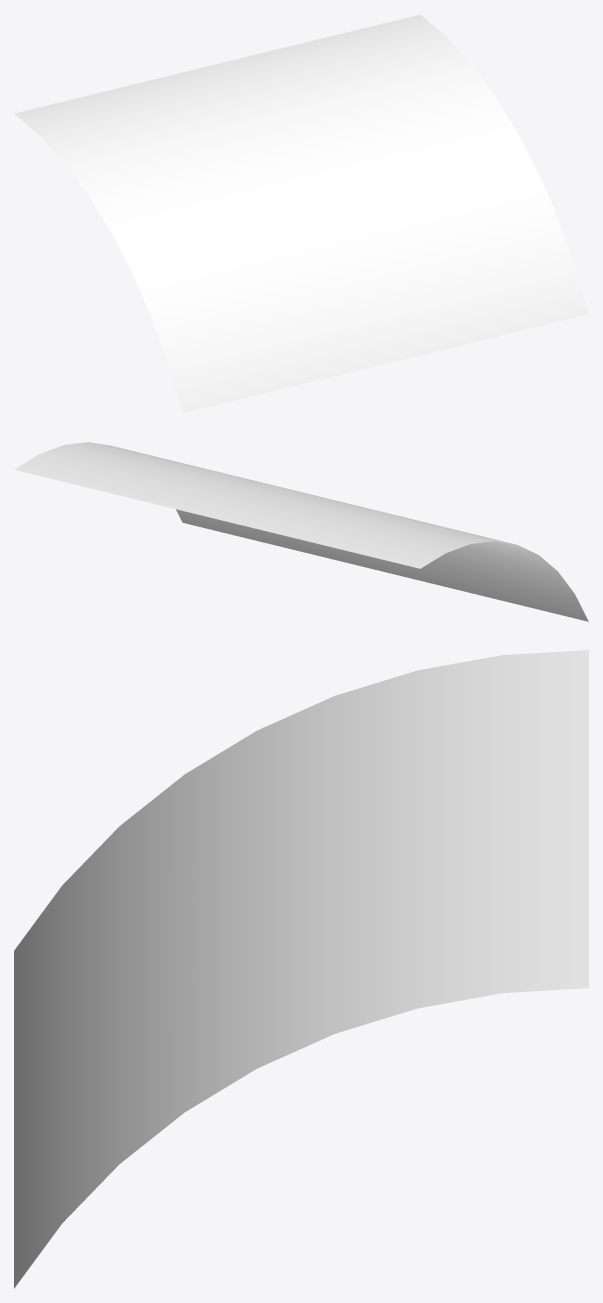
File: grd_If_H_2.dae
The picture shows the model from 3 angles, top to bottom: view 1: azimuth 30°, elevation 25°; view 2: azimuth 150°, elevation 25°; view 3: azimuth 270°, elevation 25°; orthographic projection. The views are drawn at different scales.
Visible parts, largest first — view 1: grd_If_H_2; view 2: grd_If_H_2; view 3: grd_If_H_2.
Boxes of the visible parts, x1,y1,x2,y2 form: grd_If_H_2: [14, 14, 588, 413]; grd_If_H_2: [14, 442, 588, 621]; grd_If_H_2: [14, 650, 588, 1288].
Bounding box in the file's own units: 512 × 212 × 368.
Materials: 2 (1 with a texture image).
